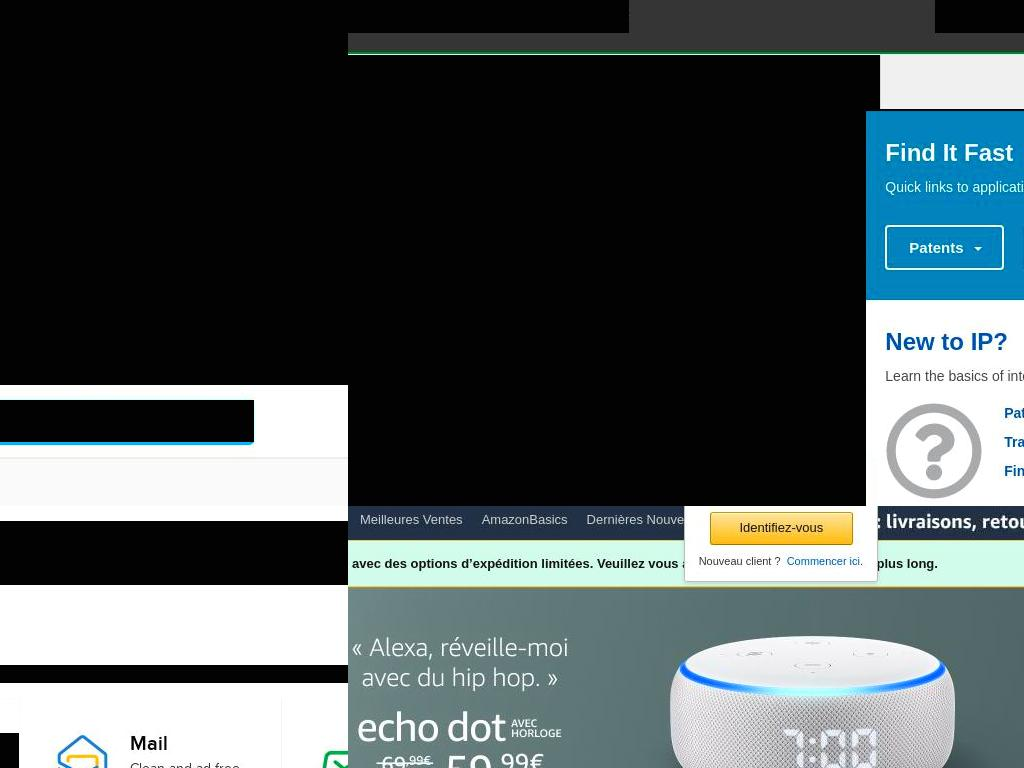button: (616, 55, 880, 111), (0, 400, 254, 442), (348, 0, 629, 33), (763, 506, 1024, 540), (348, 55, 494, 111), (49, 728, 243, 768), (494, 55, 616, 111), (885, 225, 1004, 270), (709, 512, 854, 545), (578, 507, 724, 533), (352, 639, 481, 665), (532, 595, 654, 621), (483, 551, 603, 577), (352, 507, 471, 533), (543, 639, 662, 665), (420, 595, 530, 621), (473, 507, 576, 533), (605, 551, 694, 577), (352, 551, 427, 577), (352, 595, 418, 621), (483, 639, 541, 665), (429, 551, 481, 577), (696, 551, 739, 577)
field: (935, 0, 1024, 33)
heading: (0, 665, 348, 683), (885, 141, 1024, 165), (885, 330, 1024, 354), (348, 457, 452, 485)
image: (348, 111, 866, 506), (0, 0, 348, 385), (763, 506, 1024, 540), (49, 728, 114, 768), (311, 728, 348, 768)
label: (129, 758, 243, 768)
link: (786, 555, 863, 567)
text: (0, 521, 348, 585), (348, 556, 938, 571), (348, 490, 709, 506), (865, 177, 1024, 213), (710, 513, 853, 543), (8, 410, 206, 431), (885, 366, 1024, 387), (708, 490, 794, 506), (129, 728, 168, 757), (909, 239, 973, 256), (698, 555, 784, 567), (793, 490, 806, 506)
